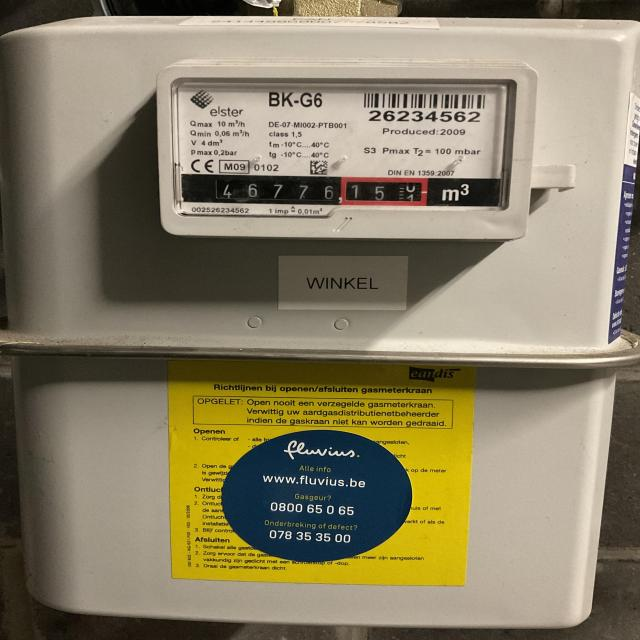gaz_meter: (175, 79, 509, 213)
indication: (180, 173, 432, 204)
